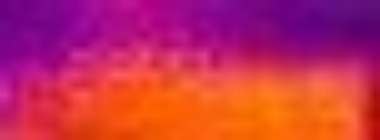Shadow: (1, 1, 380, 83)
